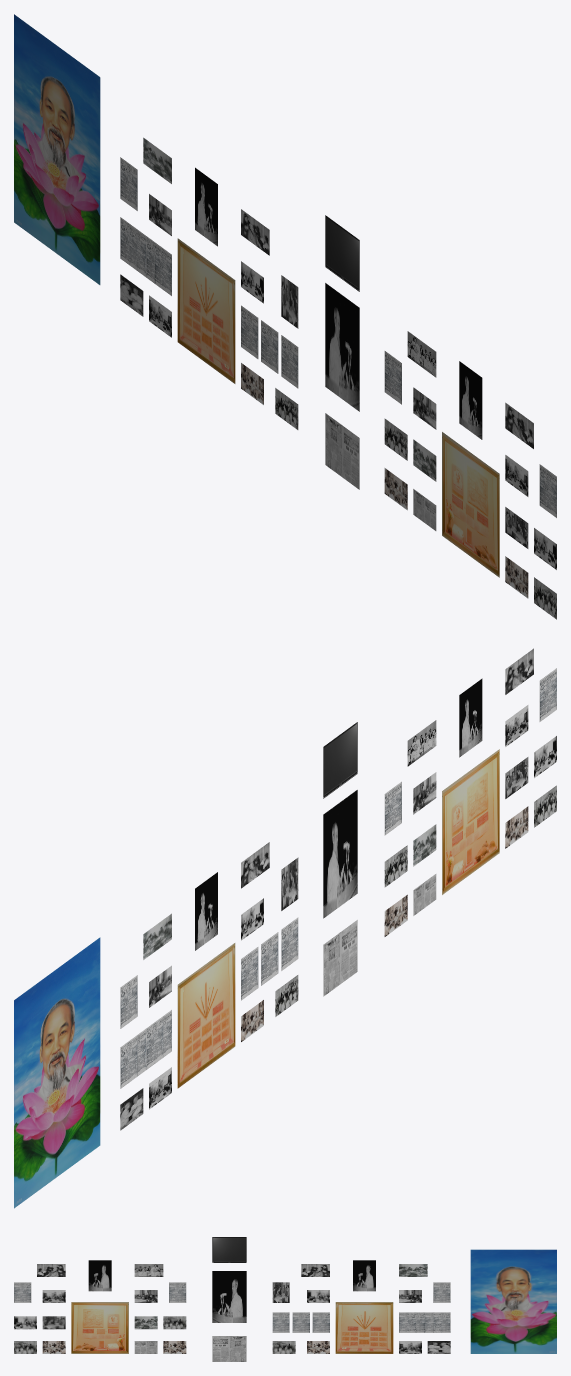
File: Bac_Ho_voi_mien_Nam_CD.glb
3 views of the same model, one above another, from view 1: azimuth 30°, elevation 25°; view 2: azimuth 150°, elevation 25°; view 3: azimuth 270°, elevation 25° (orthographic). The views are drawn at different scales.
Visible parts, largest first — view 1: Plane.001, Plane.019, Plane.011, Plane.020, Plane.029, Plane.022, Plane.002, Plane.009, Plane.028, Plane.040, Plane.017, Plane.037 (+8 smaller); view 2: Plane.001, Plane.019, Plane.011, Plane.020, Plane.029, Plane.022, Plane.002, Plane.009, Plane.028, Plane.017, Plane.037, Plane.040 (+9 smaller); view 3: Plane.001, Plane.019, Plane.011, Plane.020, Plane.029, Plane.022, Plane.002, Plane.009, Plane.028, Plane.026, Plane.004, Plane.007 (+27 smaller).
Part boxes in pixels (x1,y1,x2,y2): Plane.001: (14,14,100,284); Plane.019: (177,238,235,383); Plane.011: (442,432,499,577); Plane.020: (325,283,359,411); Plane.029: (325,215,359,291); Plane.022: (325,413,359,489); Plane.002: (459,361,482,439); Plane.009: (195,167,217,246); Plane.028: (407,331,436,377); Plane.040: (505,402,533,448); Plane.017: (241,209,269,255); Plane.037: (143,137,171,183); Plane.001: (14,937,100,1208); Plane.019: (177,943,235,1088); Plane.011: (442,749,499,894); Plane.020: (323,790,357,918); Plane.029: (323,722,357,798); Plane.022: (323,920,357,996); Plane.002: (459,678,482,757); Plane.009: (195,872,217,950); Plane.028: (407,720,436,766); Plane.017: (241,842,269,888); Plane.037: (143,913,171,959); Plane.040: (505,648,533,694); Plane.001: (470,1249,556,1353); Plane.019: (335,1302,393,1353); Plane.011: (71,1302,128,1353); Plane.020: (212,1271,246,1322); Plane.029: (212,1237,246,1262); Plane.022: (212,1336,246,1361); Plane.002: (88,1260,111,1291); Plane.009: (353,1260,375,1291); Plane.028: (134,1264,163,1276); Plane.026: (14,1282,31,1302); Plane.004: (433,1282,450,1302); Plane.007: (272,1312,289,1332).
Size of the model in its own units: 0.01 by 2.4 by 9.45.
39 materials, 39 textured.
